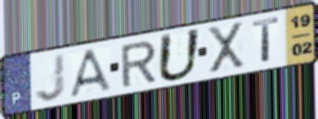A: (67, 47, 114, 100)
J: (33, 51, 67, 103)
R: (119, 39, 158, 90)
T: (250, 15, 282, 65)
U: (156, 27, 204, 84)
X: (206, 20, 247, 76)
